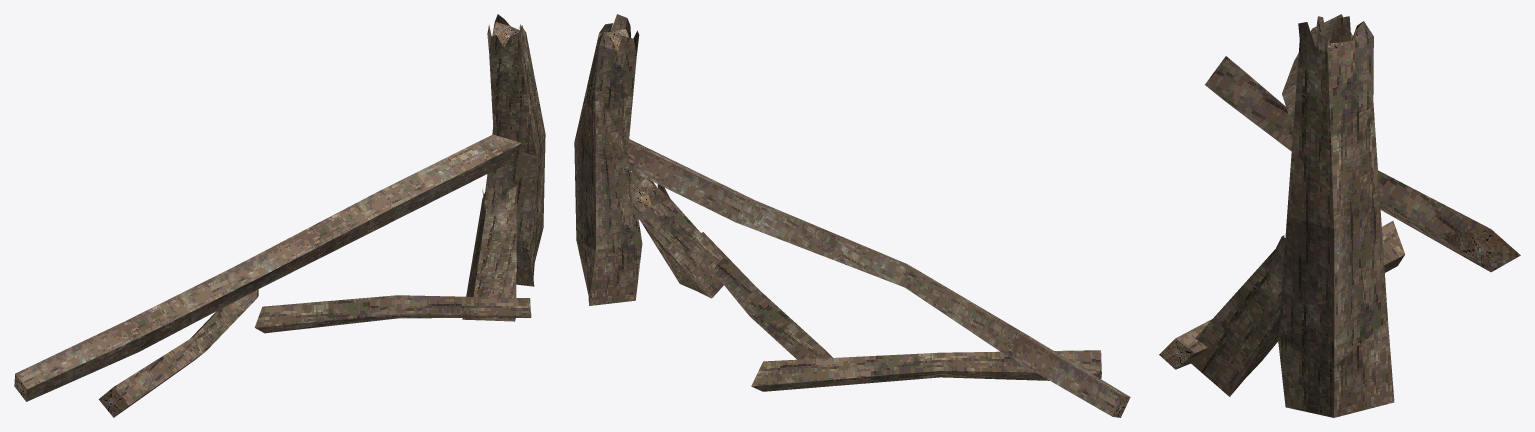
The model's file is wooden_fence_broken_alt2.glb.
3 views of the same model, side by side, from view 1: azimuth 30°, elevation 25°; view 2: azimuth 150°, elevation 25°; view 3: azimuth 270°, elevation 25° (orthographic). The views are drawn at different scales.
Visible parts, largest first — view 1: wooden_fence_broken_alt2; view 2: wooden_fence_broken_alt2; view 3: wooden_fence_broken_alt2.
Boxes of the visible parts, x1,y1,x2,y2 form: wooden_fence_broken_alt2: [14, 14, 545, 417]; wooden_fence_broken_alt2: [574, 14, 1130, 417]; wooden_fence_broken_alt2: [1159, 14, 1520, 417].
Size of the model in its own units: 2.07 by 1.03 by 0.83.
Materials: 1 (1 with a texture image).
